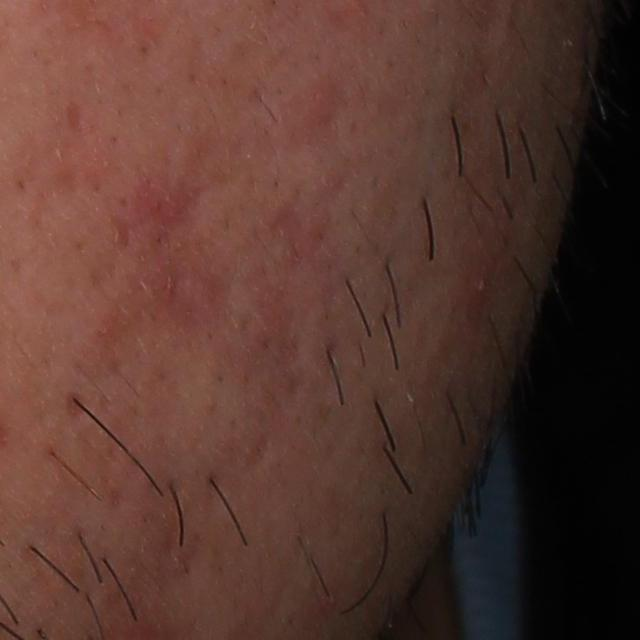atrophic_scar: (66, 102, 86, 138)
